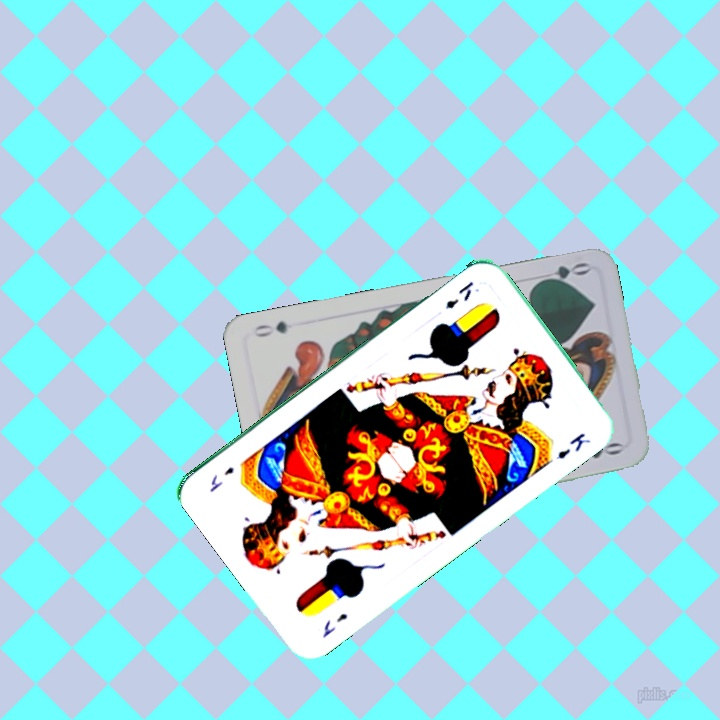EK: (440, 277, 476, 312), (318, 609, 350, 640)
GO: (533, 258, 591, 287)
